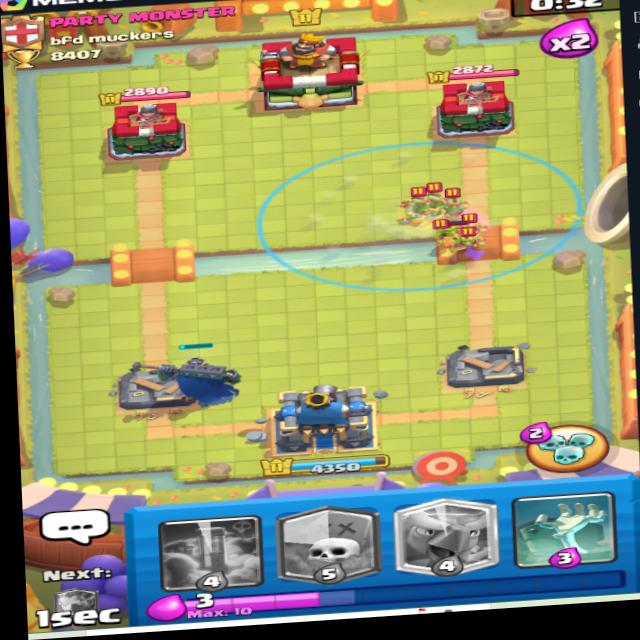goblin: (418, 218, 467, 244), (450, 228, 491, 255), (454, 212, 484, 238)
spear-goblin: (386, 182, 434, 223), (418, 177, 457, 215), (442, 183, 471, 214)
